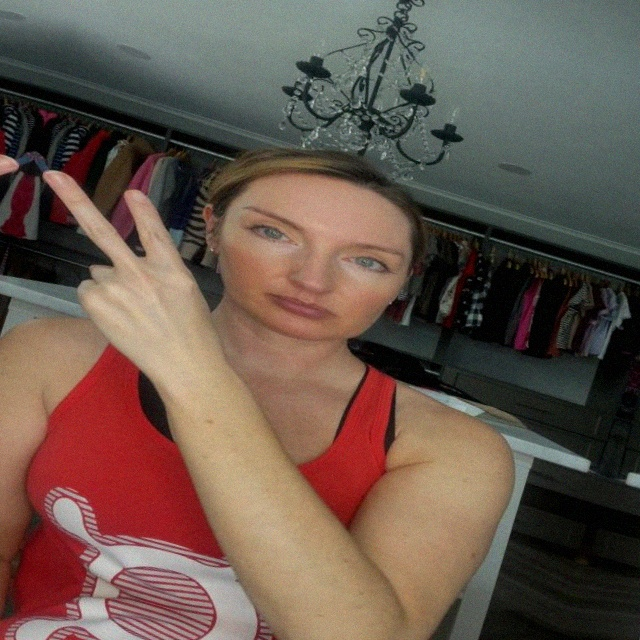Scissors: (0, 161, 254, 396)
